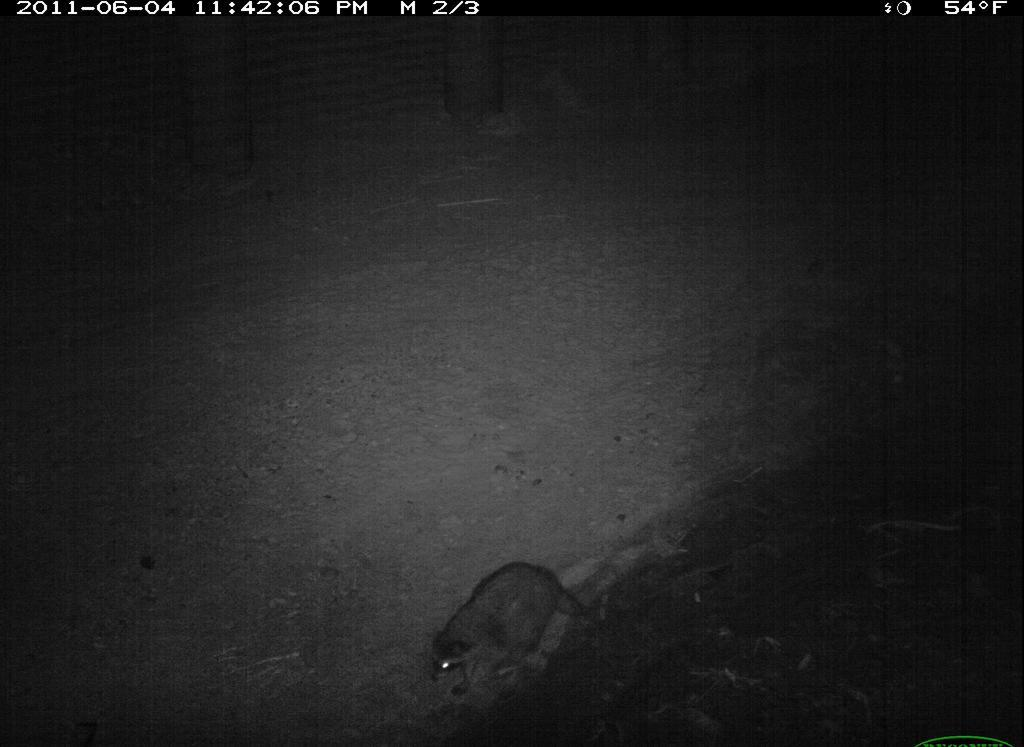raccoon: (399, 552, 598, 694)
